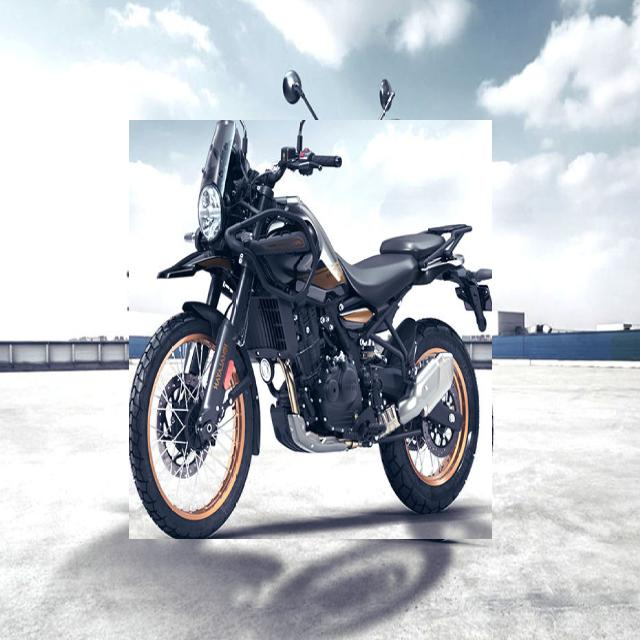motorcycle: (129, 120, 492, 539)
